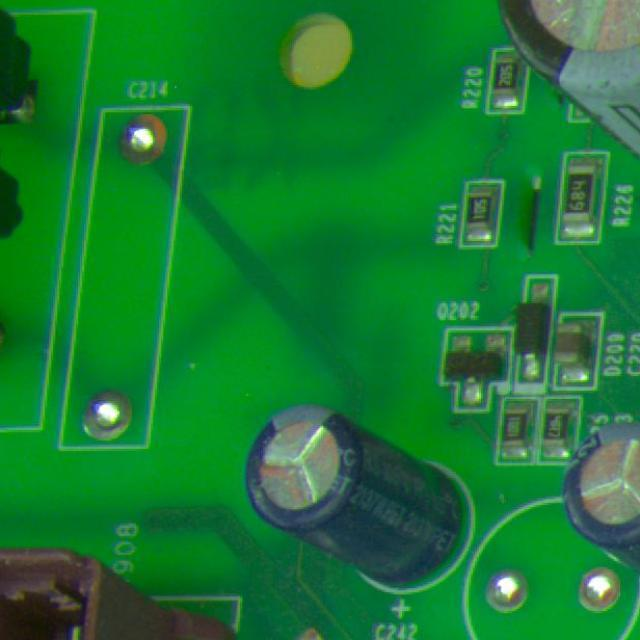Insufficient solder: (568, 554, 629, 620), (81, 381, 142, 444), (112, 110, 172, 171), (485, 568, 525, 620)
